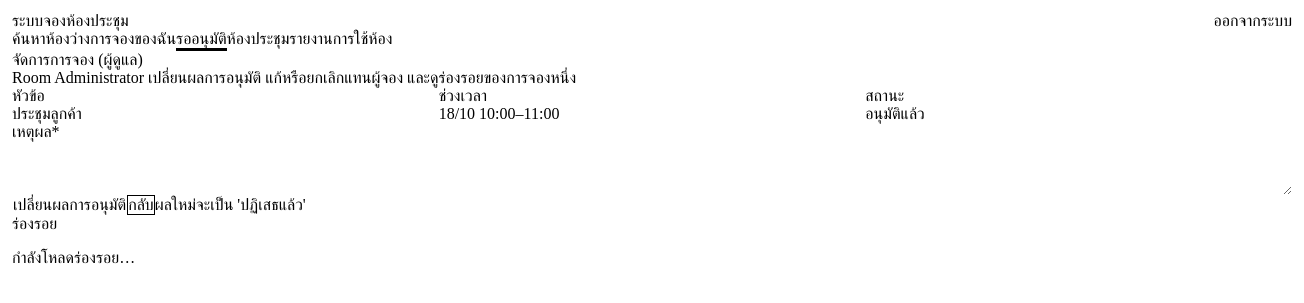
FE-mrr-008 change an approval decision page (UI-mrr-010) › AC-mrr-034 the api's own กรุณาระบุเหตุผล lands at the field too
In the text box with test id "ui-mrr-010-ent-010-reason": (652, 168) [12,141,1292,195], type "x"
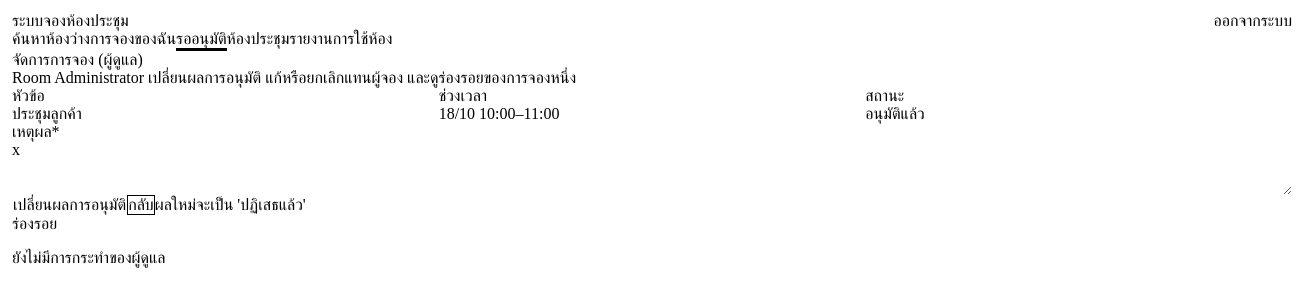
Click the button with test id "ui-mrr-010-change-decision": (70, 205) [12,195,127,215]
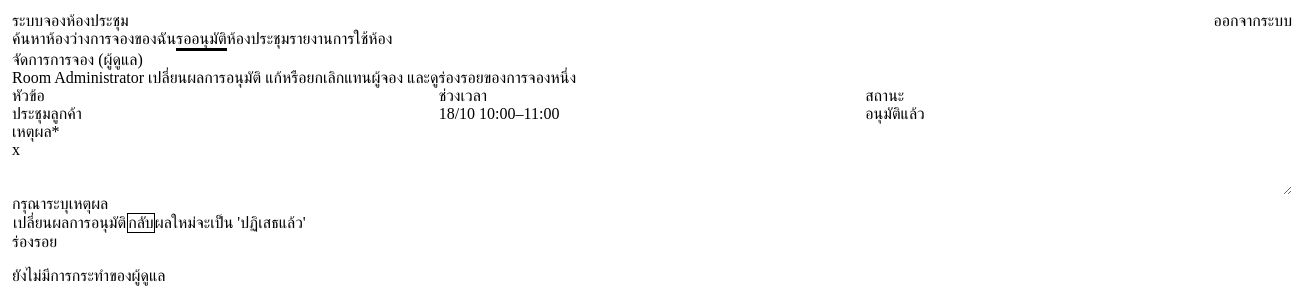
Result: the text "กรุณาระบุเหตุผล" is shown at [12,195,108,212]
